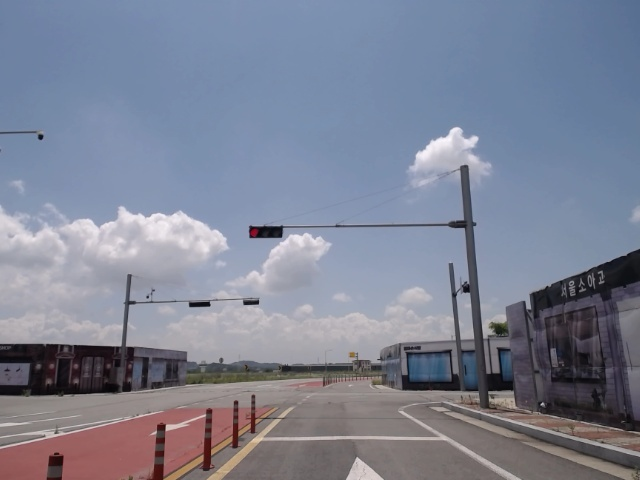red_3: (248, 225, 284, 239)
